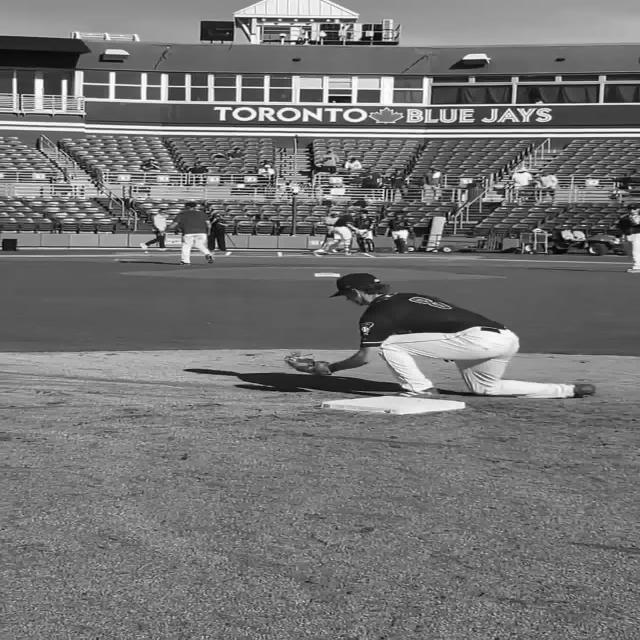base: (322, 396, 467, 415)
baseball_glove: (284, 351, 331, 375)
shoe: (396, 388, 440, 399), (573, 384, 598, 398)
